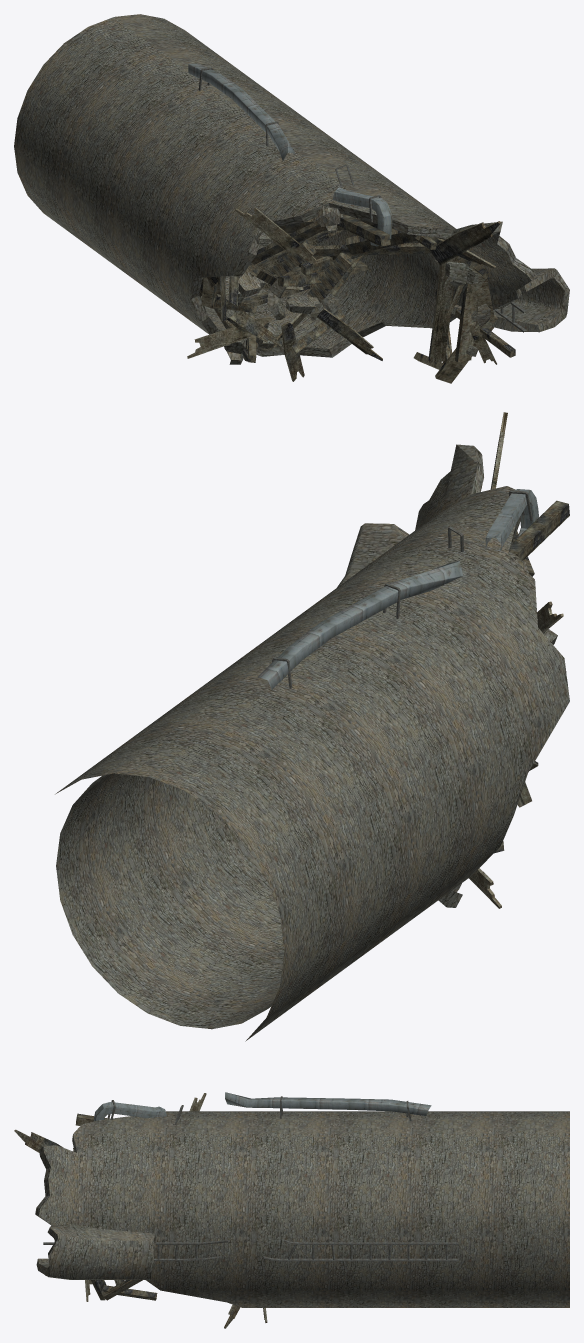
Rendered from silo03.glb.
3 renders of one model, top to bottom at view 1: azimuth 30°, elevation 25°; view 2: azimuth 150°, elevation 25°; view 3: azimuth 270°, elevation 25°, orthographic. The views are drawn at different scales.
Bounding box in the file's own units: 341 × 332 × 768.
Materials: 4 (4 with a texture image).
